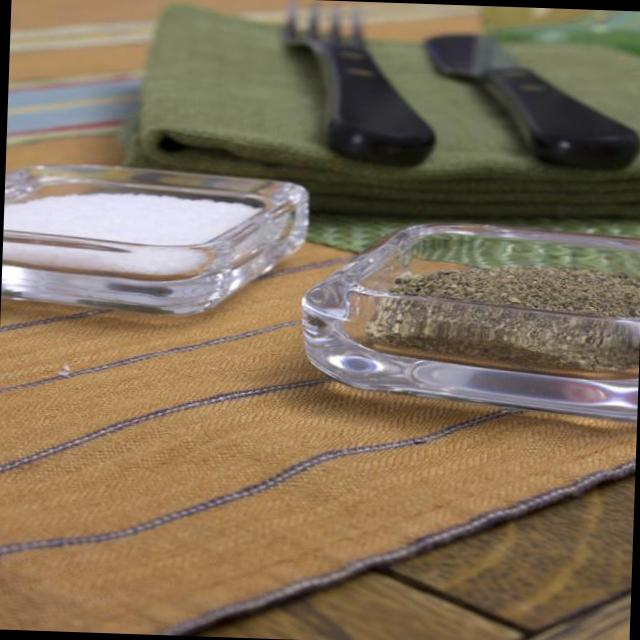Knife: (426, 35, 640, 167)
